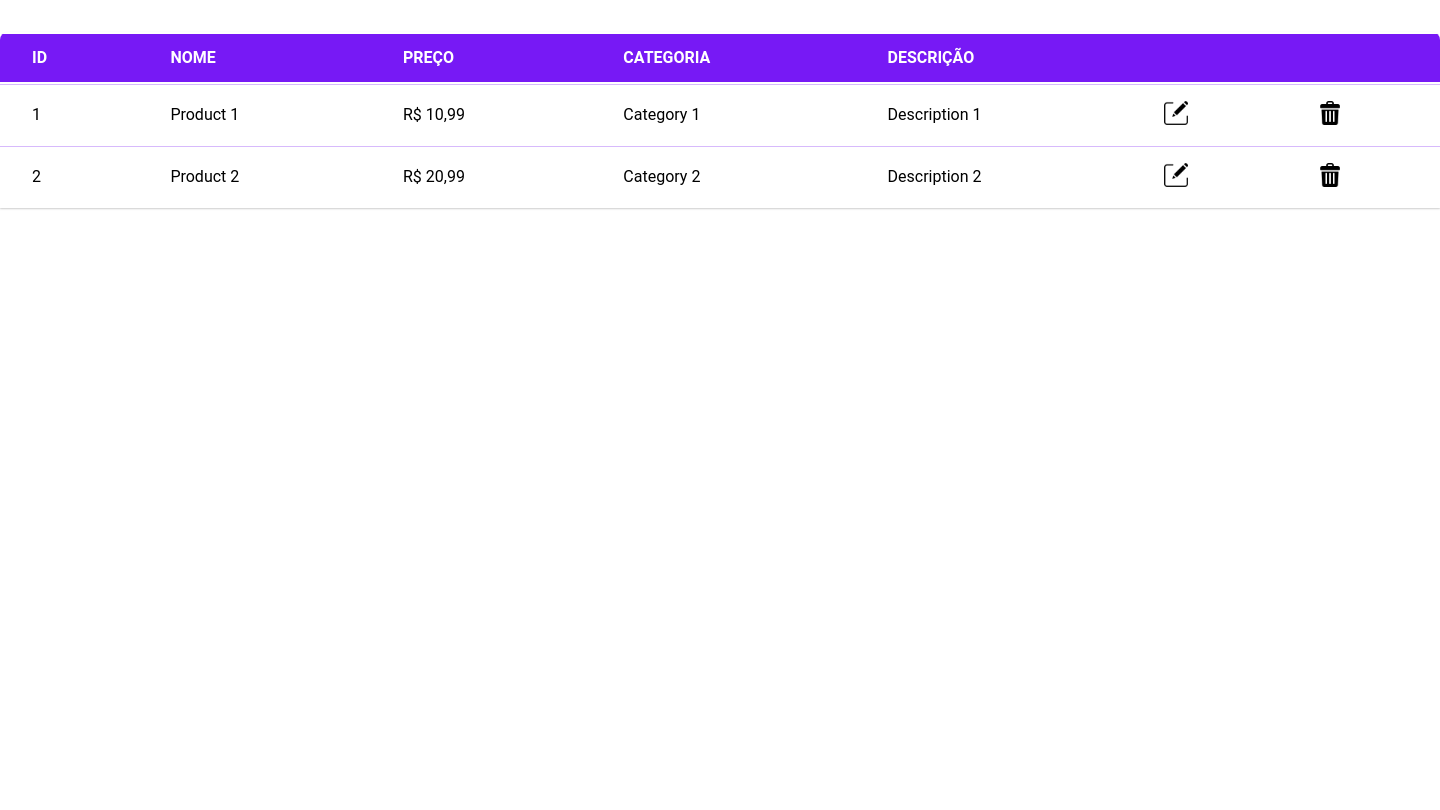
Test: TableDesktop › should show edit form on click edit product
What coordinates should you click on to do the following:
click the picture named "Edit Product 1"
I would click on:
 (1176, 113)
Its box is [1164,101,1188,125].
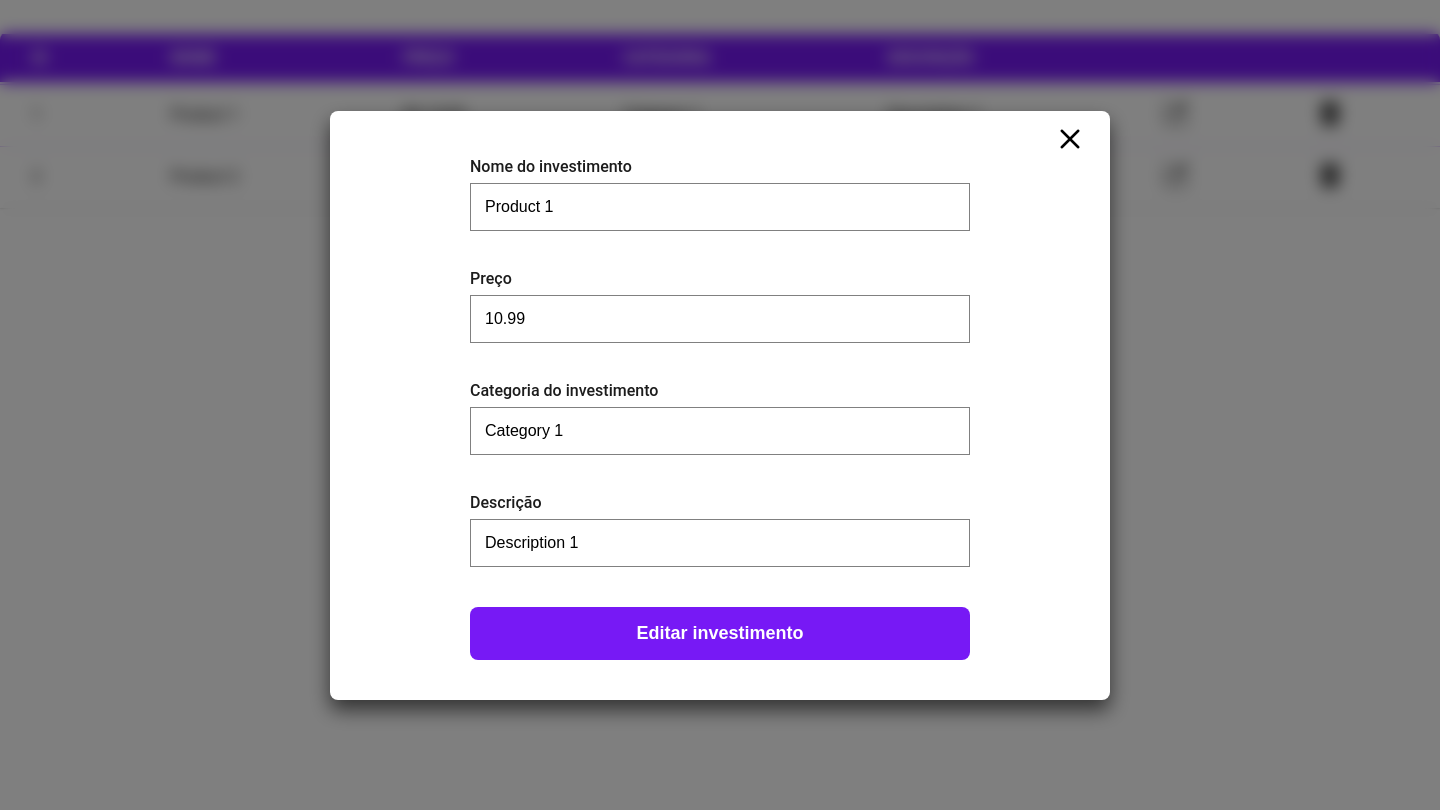
Result: the element with test id "edit-product-card" is shown
